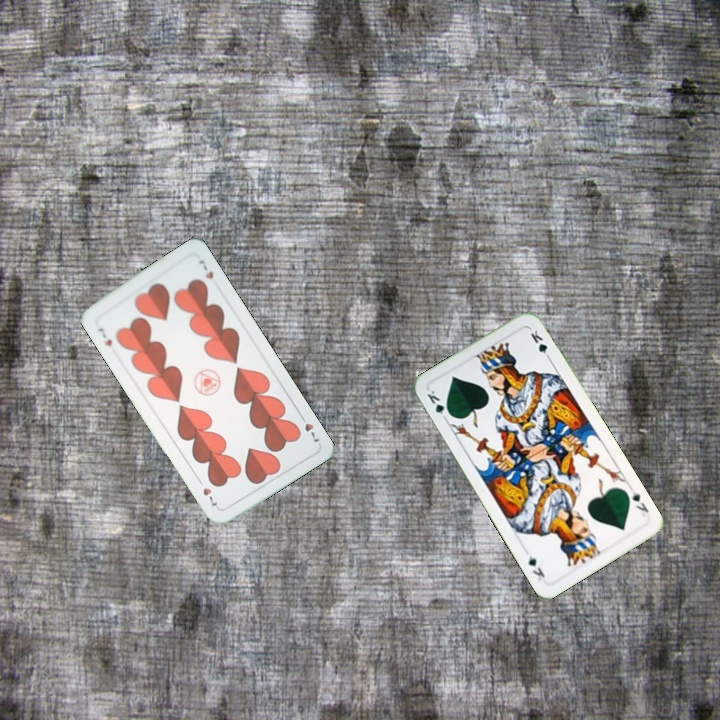GK: (423, 386, 454, 423), (624, 487, 651, 520)
H7: (295, 410, 322, 445), (94, 324, 115, 349)
